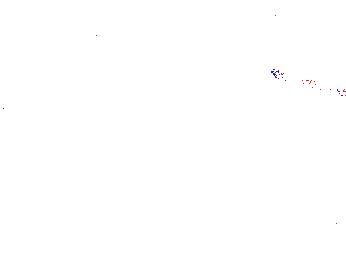X-ray fish: (80, 107, 113, 145)
redtail glassfish: (269, 65, 346, 99)
